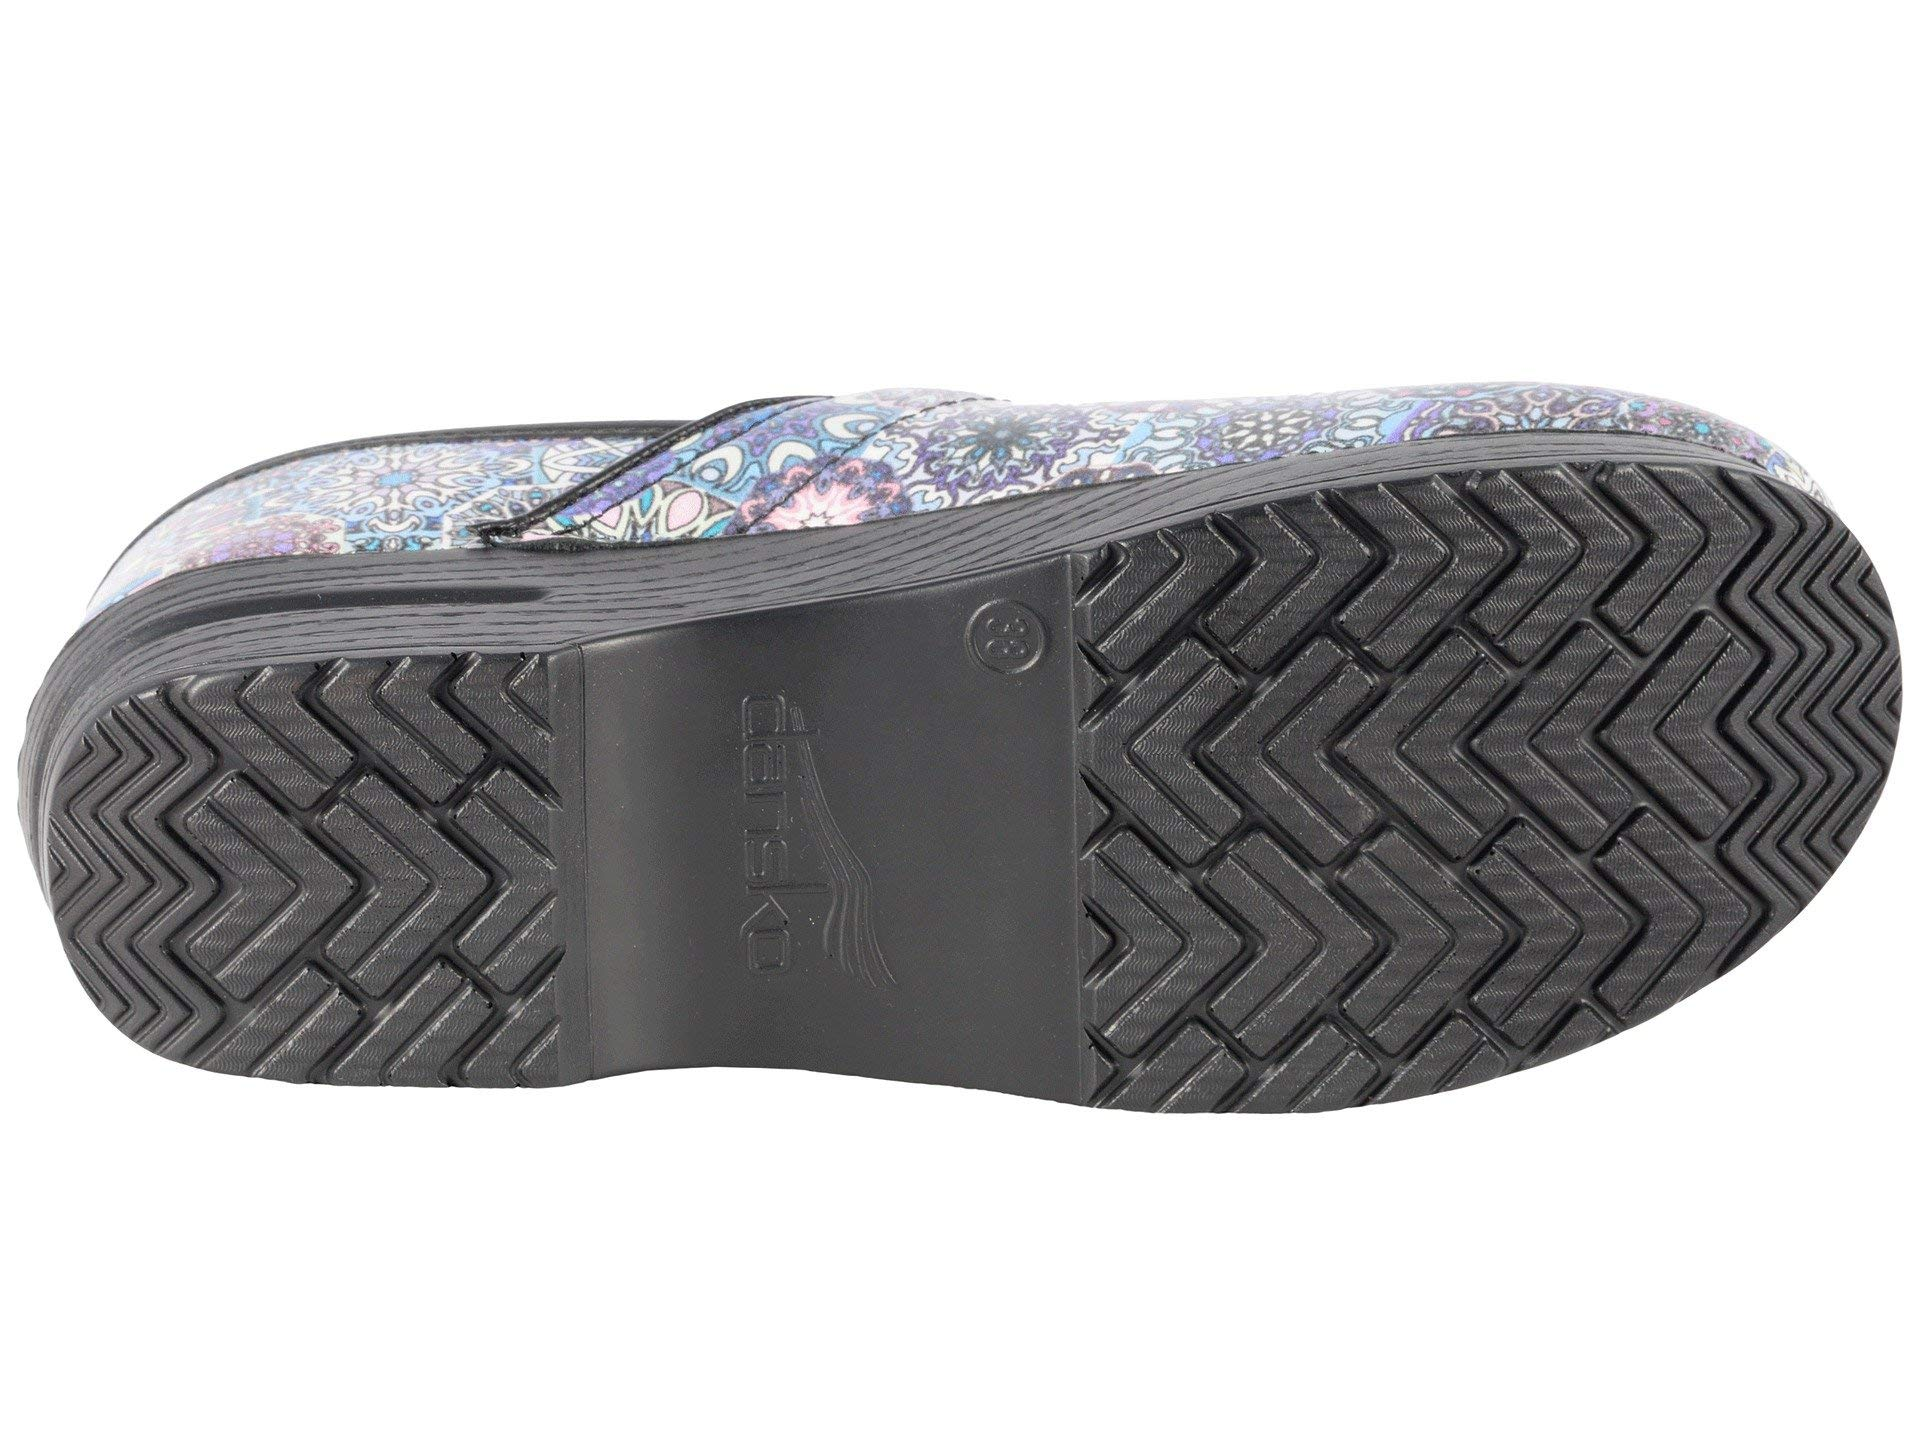chevron: (1102, 591, 1522, 1050), (132, 725, 466, 1060), (1643, 554, 1835, 880)
circle: (958, 591, 1064, 691)
line: (615, 655, 998, 1041)
text: (615, 655, 998, 1041), (958, 591, 1064, 691)
